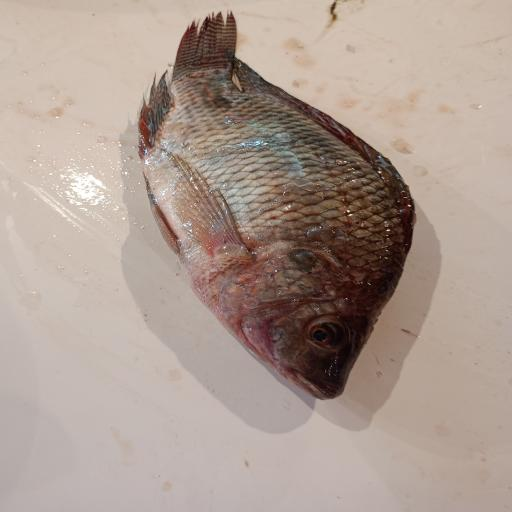Tilapia: (136, 9, 416, 401)
